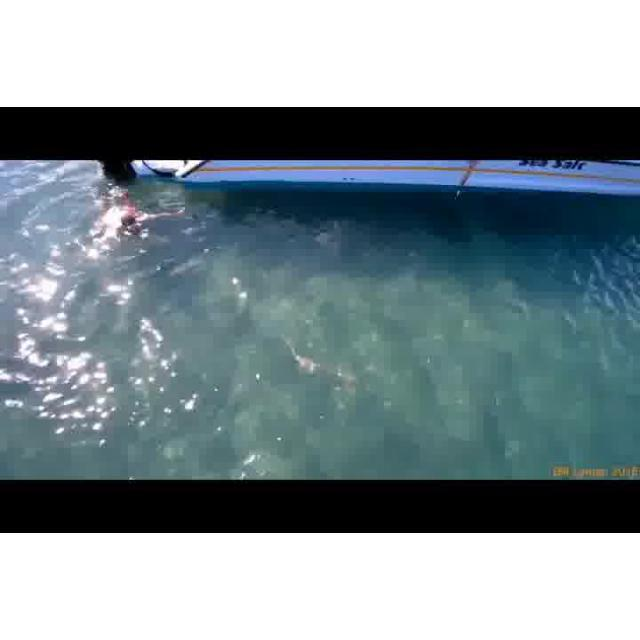human: (98, 195, 181, 249)
